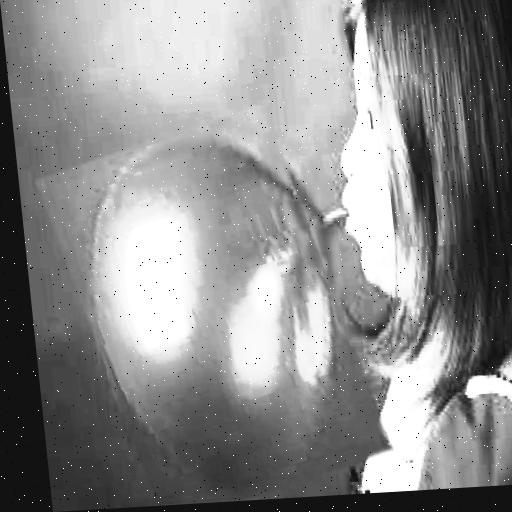balloon: (51, 111, 377, 510)
